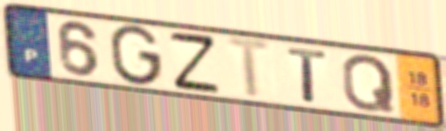6: (56, 19, 101, 78)
G: (109, 23, 164, 89)
Q: (340, 53, 398, 114)
T: (224, 34, 278, 101), (285, 45, 331, 106)
Z: (166, 30, 223, 94)
